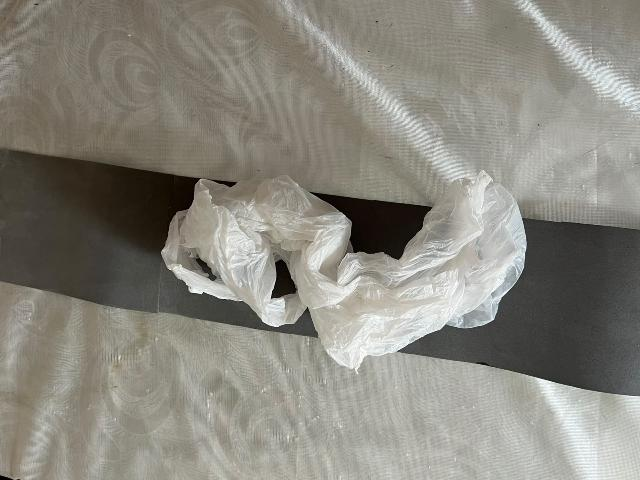LDPE: (149, 156, 557, 385)
